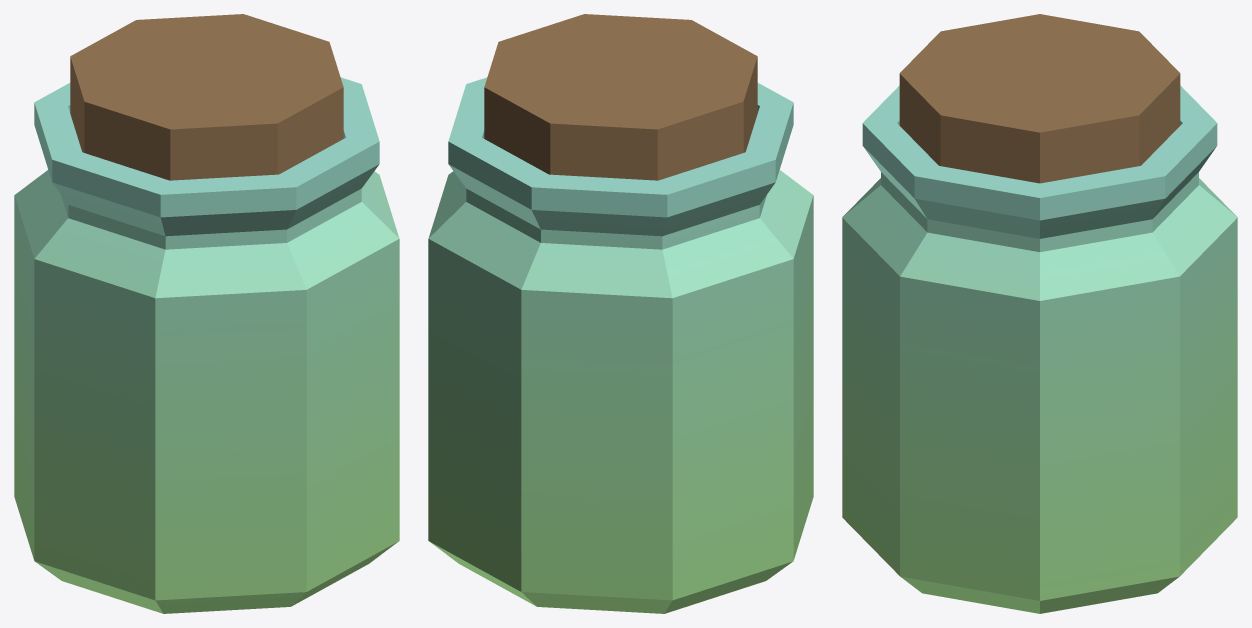
The model's file is JarLarge.fbx.
The picture shows the model from 3 angles, left to right: view 1: azimuth 30°, elevation 25°; view 2: azimuth 150°, elevation 25°; view 3: azimuth 270°, elevation 25°; orthographic projection.
Parts seen in each view (by area): view 1: JarLarge; view 2: JarLarge; view 3: JarLarge.
Boxes of the visible parts, x1,y1,x2,y2 form: JarLarge: (14, 14, 399, 613); JarLarge: (428, 14, 813, 613); JarLarge: (842, 14, 1237, 613).
Size of the model in its own units: 13.43 by 17.61 by 13.43.
